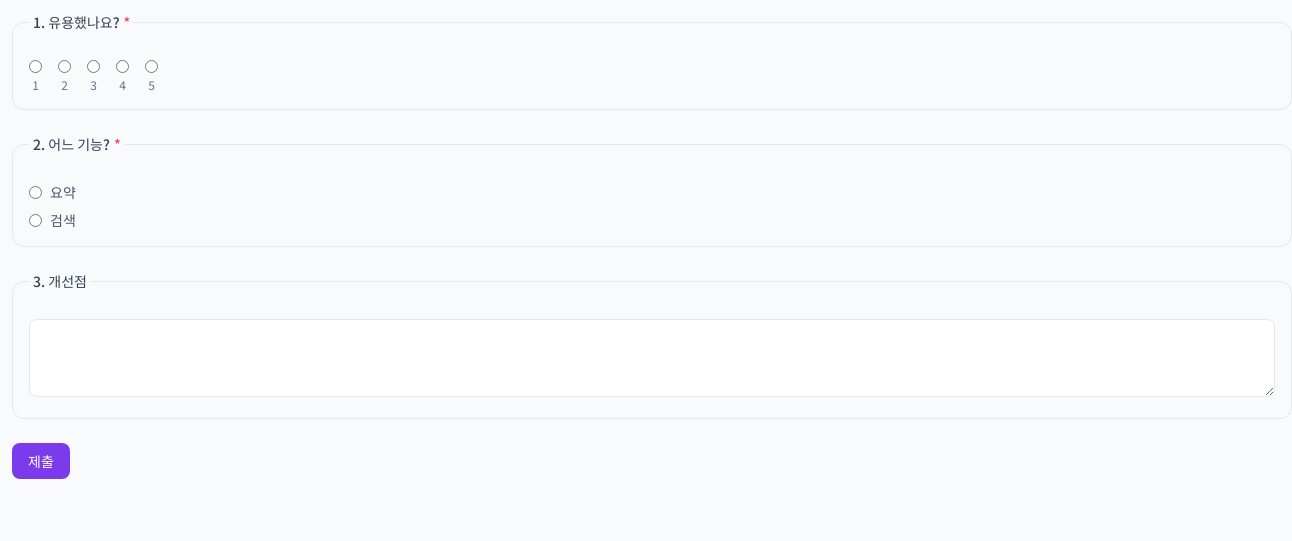
SurveyForm › blocks submit until required answers are given
The width and height of the screenshot is (1292, 541).
Click the button "제출". click: (41, 461)
box: [12,443,70,479]
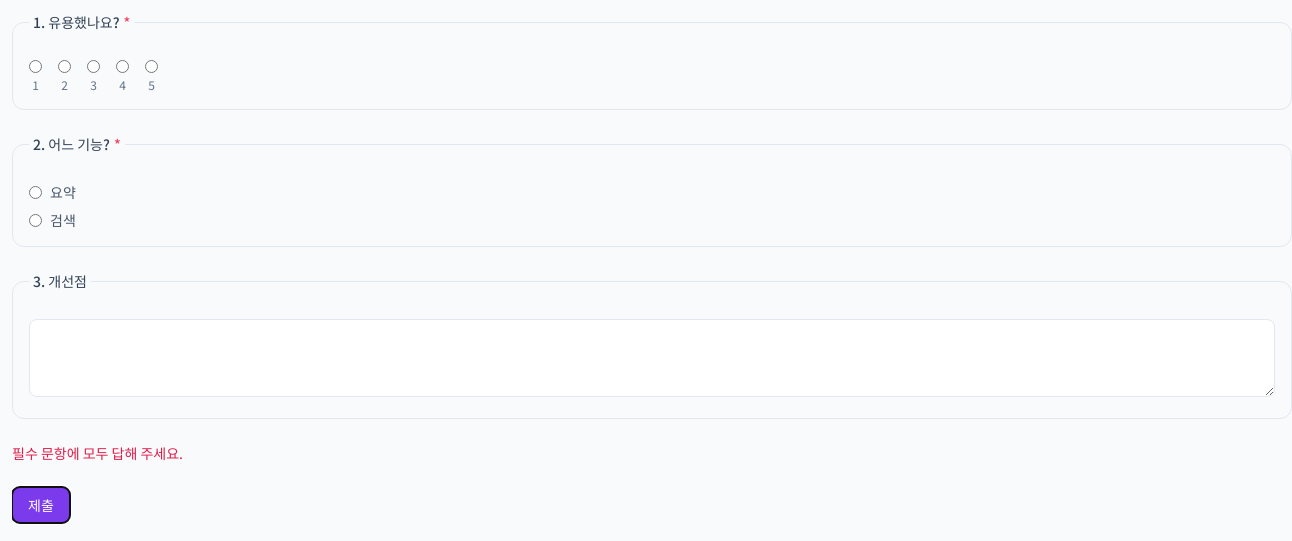
Now the text "필수 문항에 모두 답해 주세요." is shown, box [12,443,183,463]
